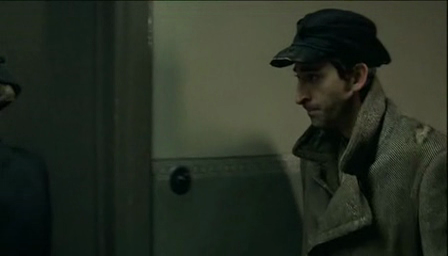face: (293, 64, 335, 128)
mcu: (1, 1, 448, 256)
person: (269, 1, 448, 256)
